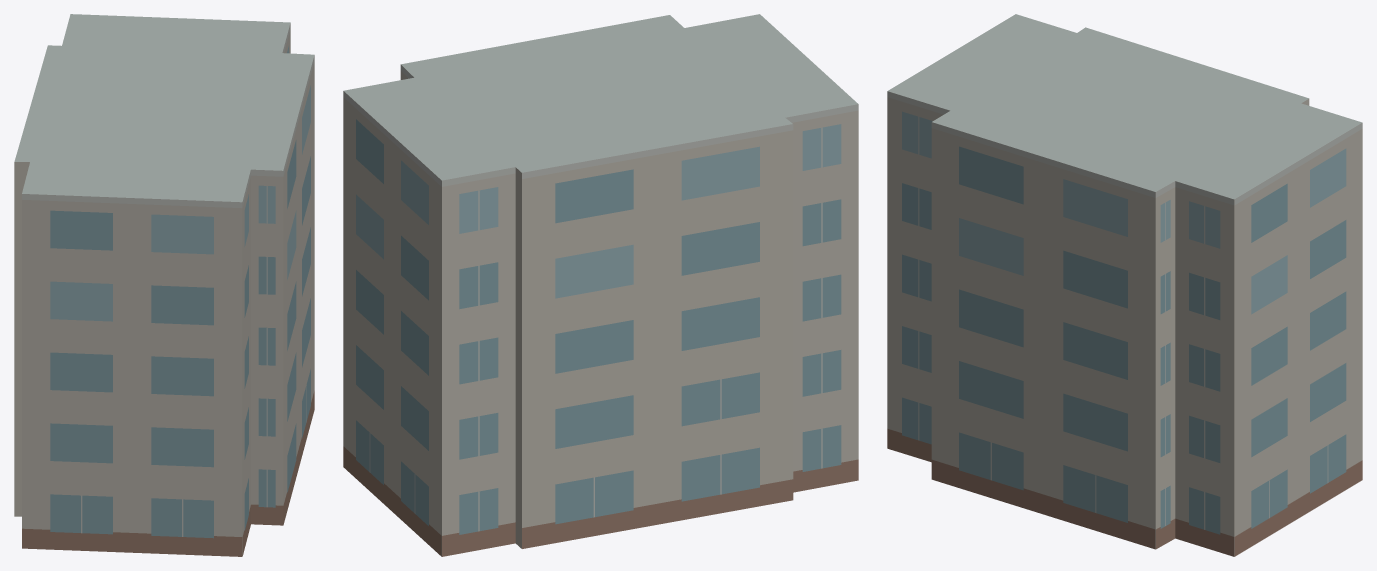
Rendered from survey-upis-32578751.glb.
3 views of the same model, side by side, from view 1: azimuth 30°, elevation 25°; view 2: azimuth 150°, elevation 25°; view 3: azimuth 270°, elevation 25° (orthographic). The views are drawn at different scales.
Visible parts, largest first — view 1: survey-upis-32578751.tmp; view 2: survey-upis-32578751.tmp; view 3: survey-upis-32578751.tmp.
Boxes of the visible parts, x1,y1,x2,y2 form: survey-upis-32578751.tmp: (14,14,314,556); survey-upis-32578751.tmp: (343,14,858,556); survey-upis-32578751.tmp: (887,14,1362,556).
Size of the model in its own units: 16.15 by 14.5 by 17.49.
